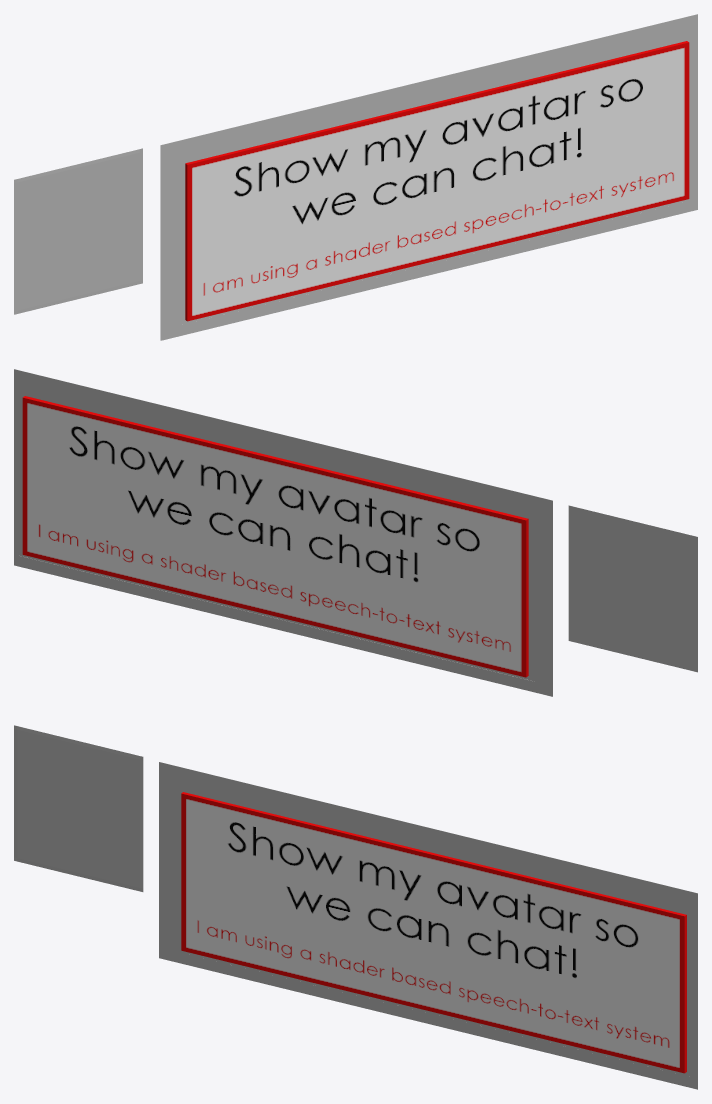
Rendered from Notepad FBX.fbx.
3 renders of one model, top to bottom at view 1: azimuth 30°, elevation 25°; view 2: azimuth 150°, elevation 25°; view 3: azimuth 330°, elevation 25°, orthographic.
Visible parts, largest first — view 1: Show Avatar, Windows Notepad; view 2: Show Avatar, Windows Notepad; view 3: Show Avatar, Windows Notepad.
Part boxes in pixels (x1,y1,x2,y2): Show Avatar: (185, 41, 689, 321); Windows Notepad: (14, 14, 697, 340); Show Avatar: (22, 396, 528, 677); Windows Notepad: (14, 369, 697, 696); Show Avatar: (181, 792, 686, 1073); Windows Notepad: (14, 725, 697, 1089).
Size of the model in its own units: 82.98 by 22.73 by 0.966.
